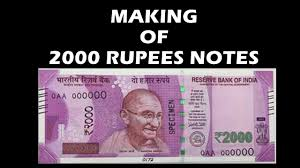twoThousand: (53, 84, 272, 149)
